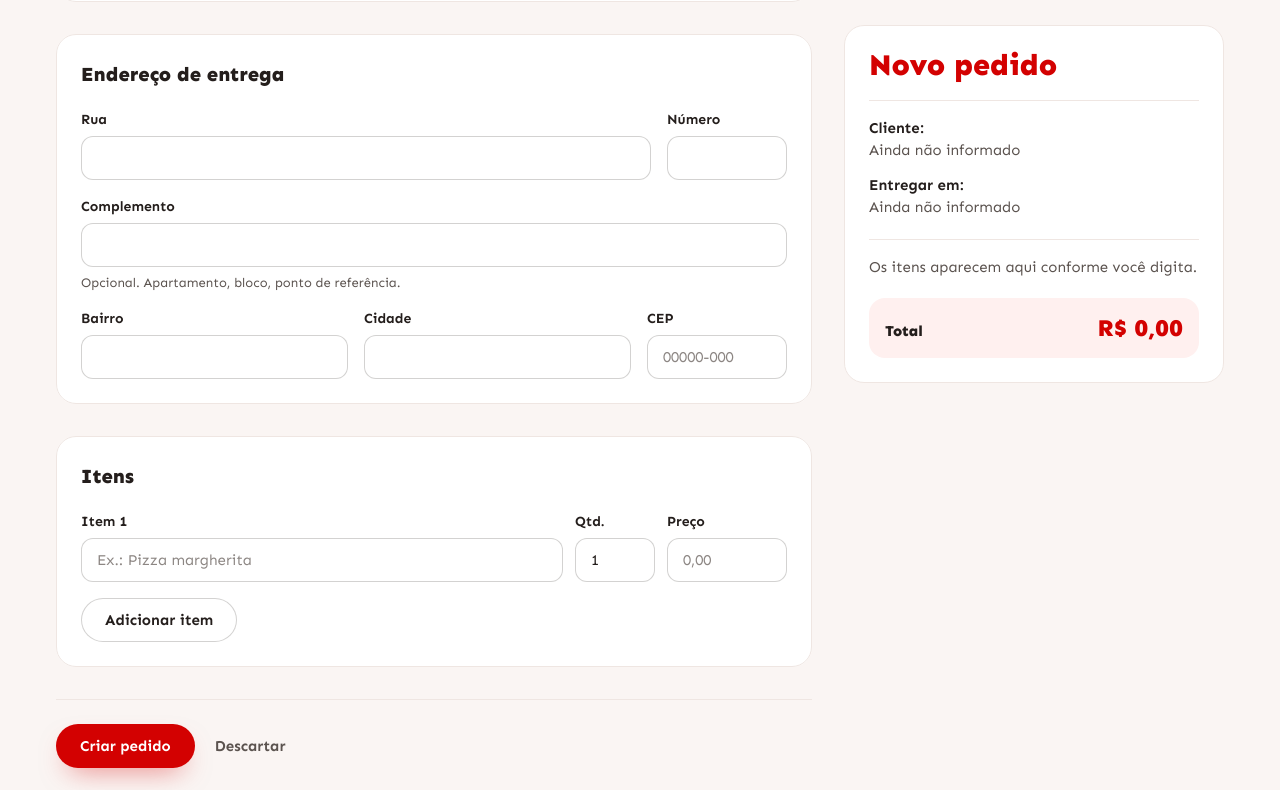
novo pedido › monta o resumo e o total enquanto o operador digita
The width and height of the screenshot is (1280, 790).
(page scrolled)
Step 1. Type "Pizza" into the field labelled "Item 1" → x=322, y=560, box left=81, top=538, right=563, bottom=582
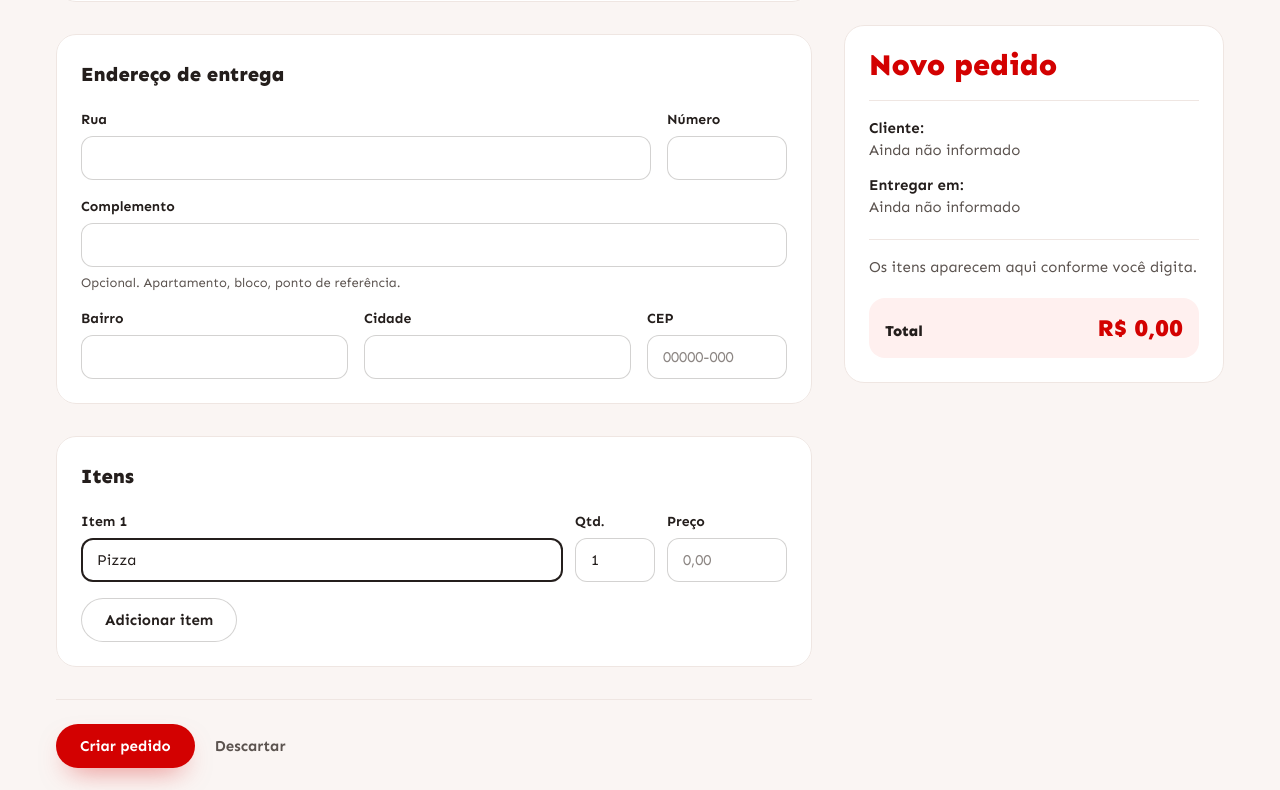
Step 2. Replace the text in the field named "Quantidade do item 1" with "2" → x=615, y=560, box left=575, top=538, right=655, bottom=582
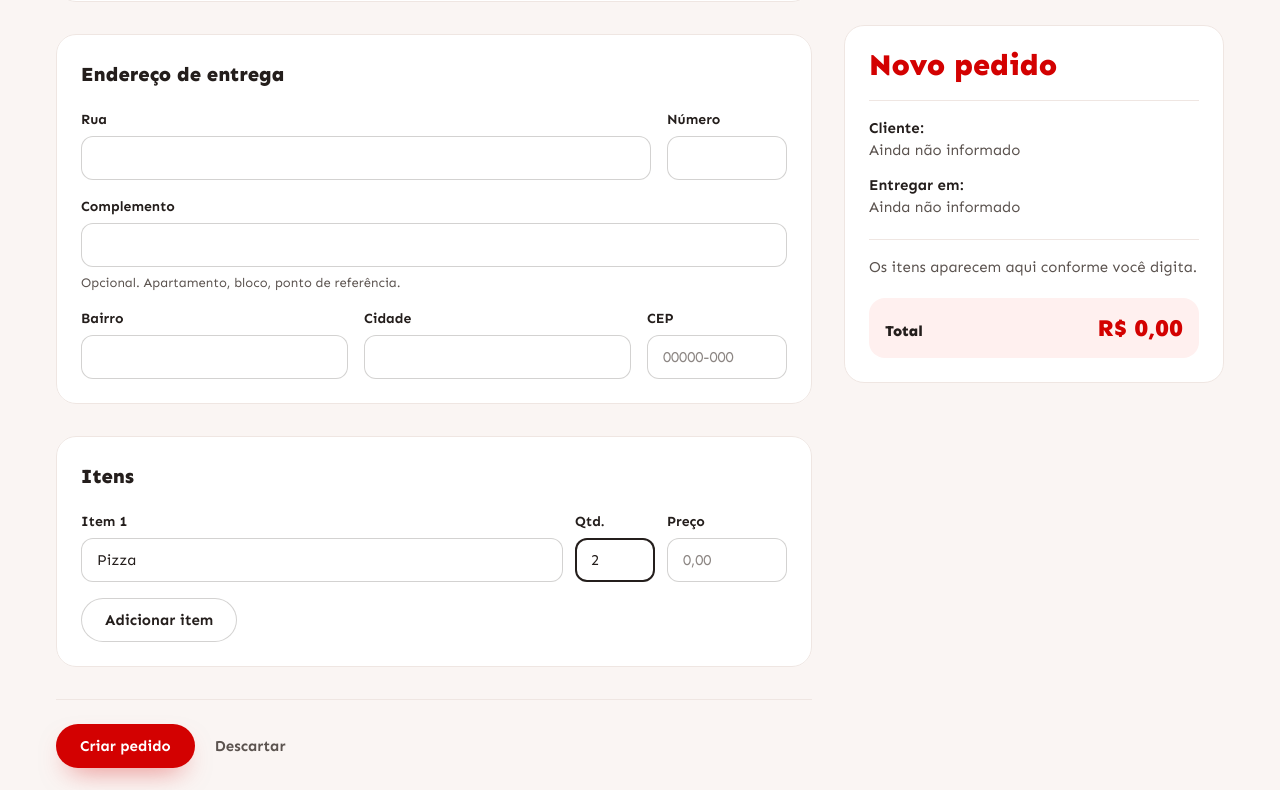
Step 3. Type "45,00" into the field named "Preço unitário do item 1" → x=727, y=560, box left=667, top=538, right=787, bottom=582
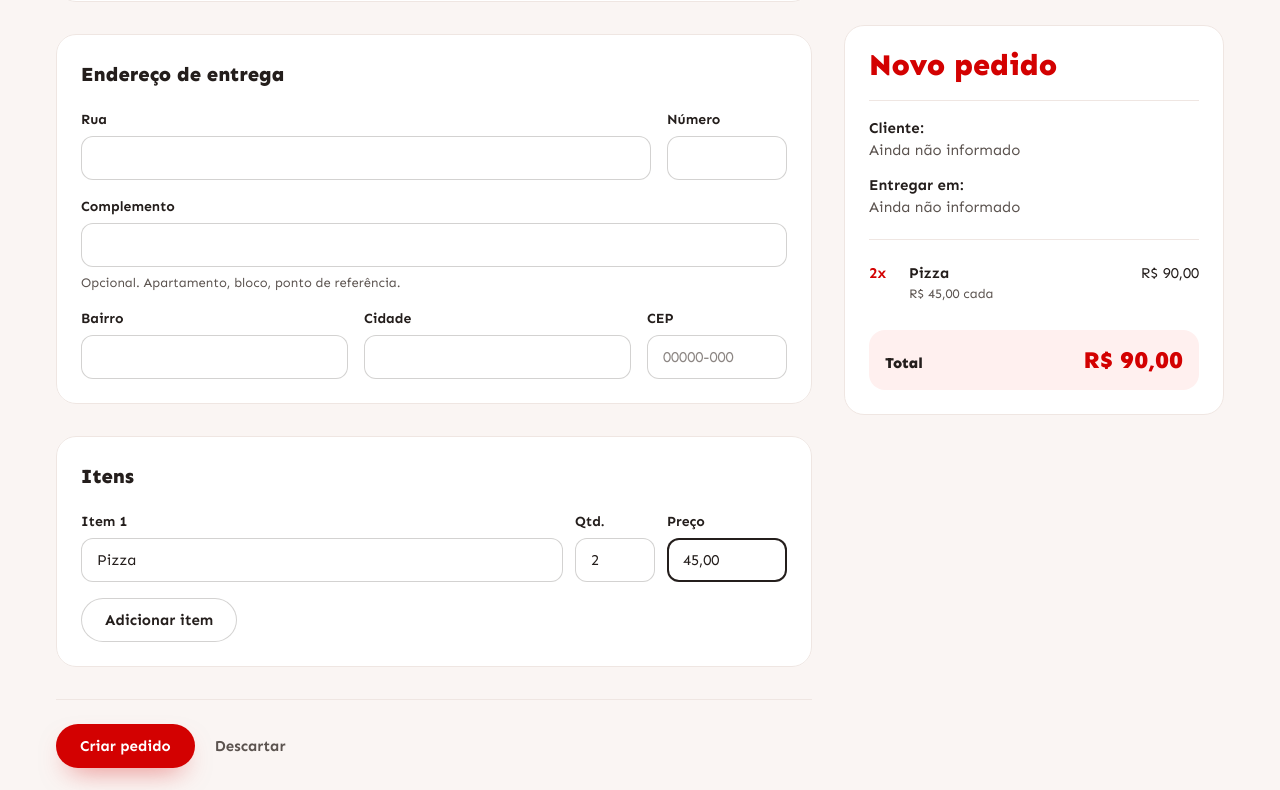
Step 4. Click the button "Adicionar item" → x=159, y=620, box left=81, top=598, right=237, bottom=642
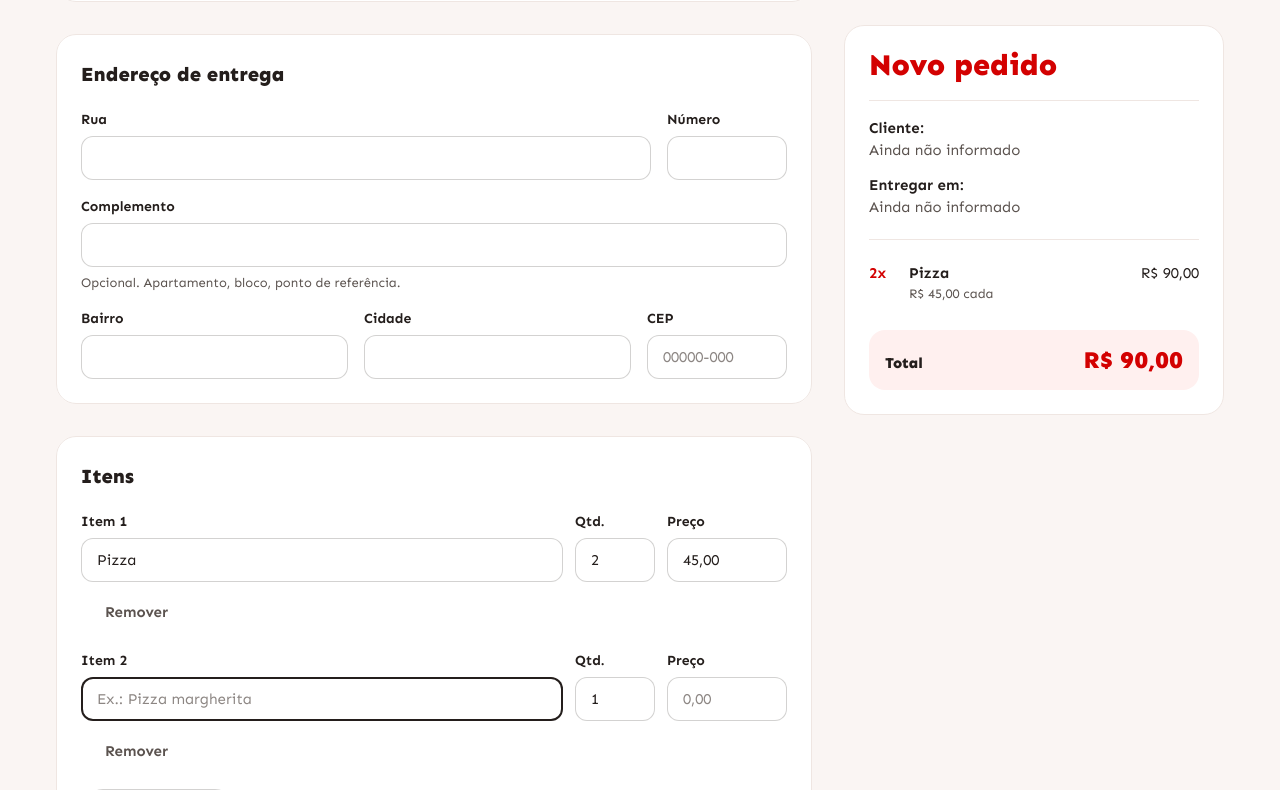
Step 5. Type "Refrigerante" into the field labelled "Item 2" → x=322, y=699, box left=81, top=677, right=563, bottom=721
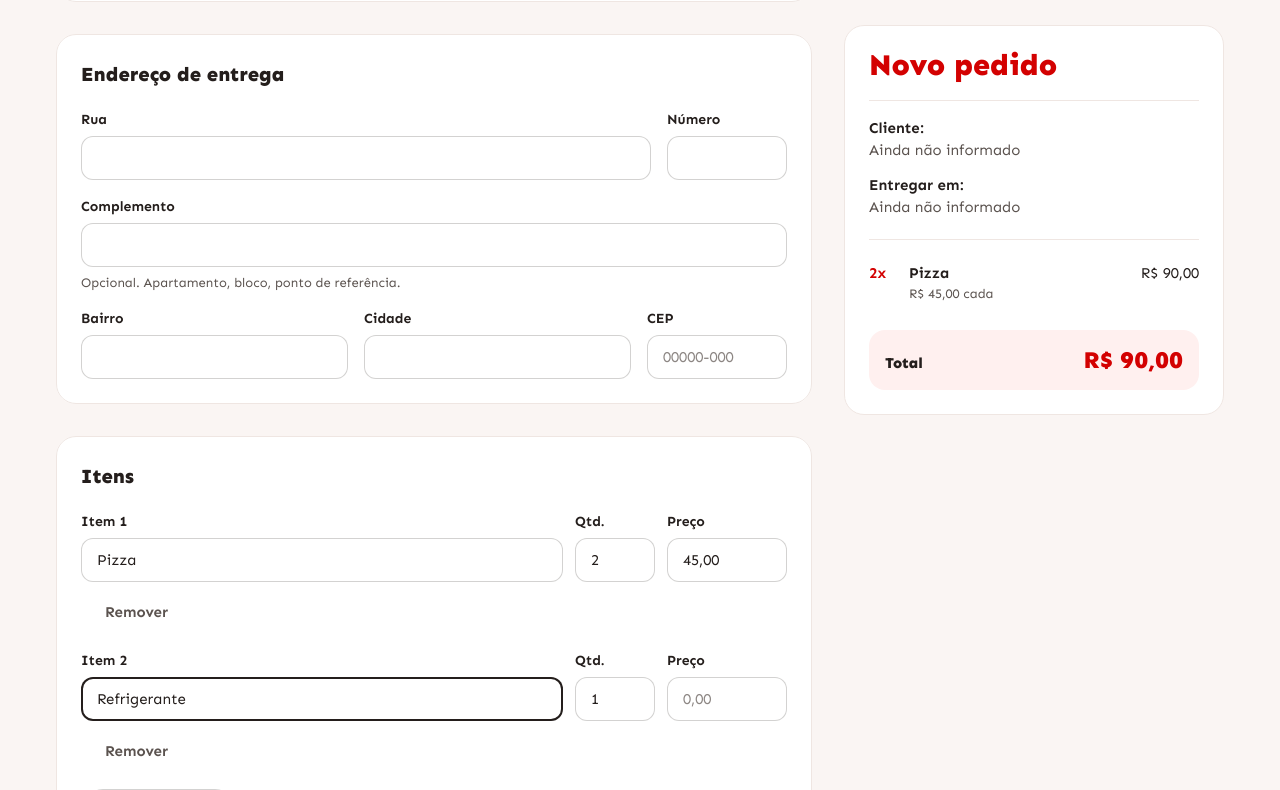
Step 6. Type "9,90" into the field named "Preço unitário do item 2" → x=727, y=699, box left=667, top=677, right=787, bottom=721
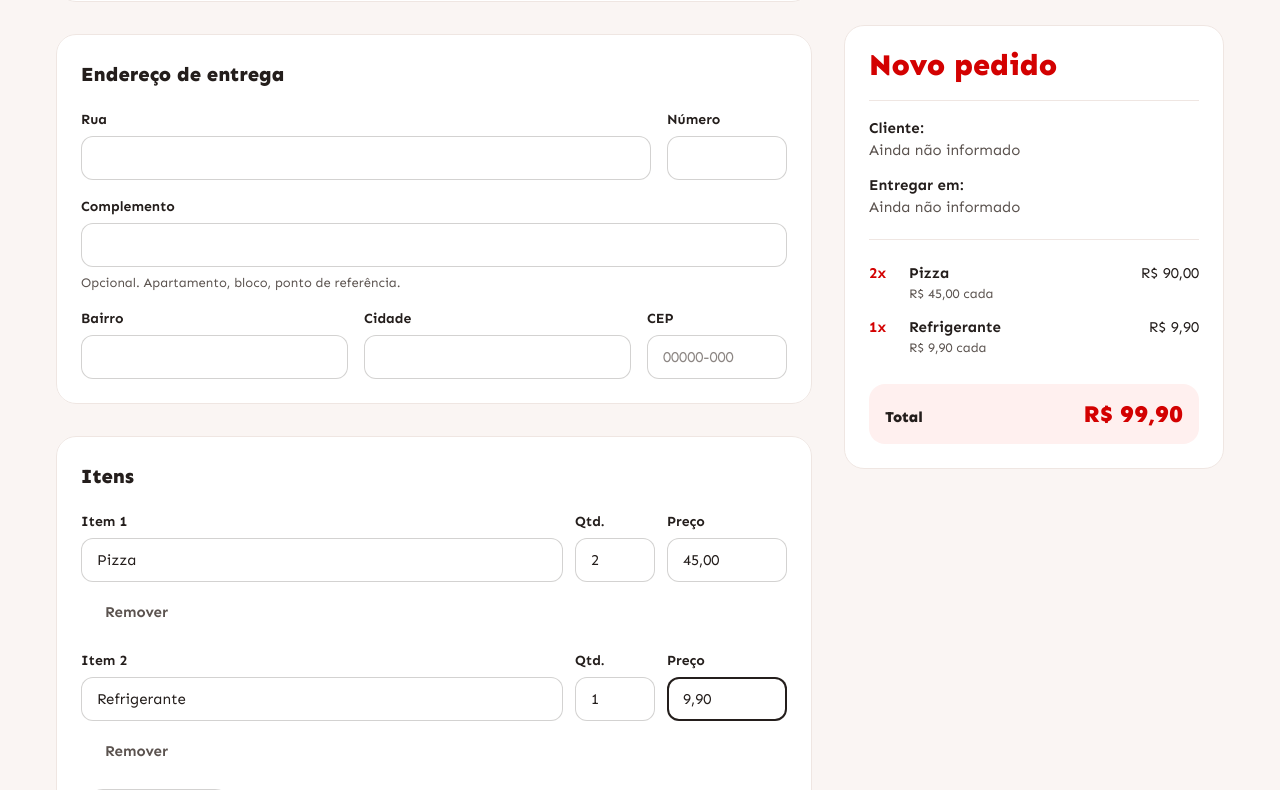
Now the text "Pizza" is shown, box left=909, top=263, right=949, bottom=281
Now the text with test id "receipt-total" shows "99,90", box left=1084, top=398, right=1183, bottom=427
